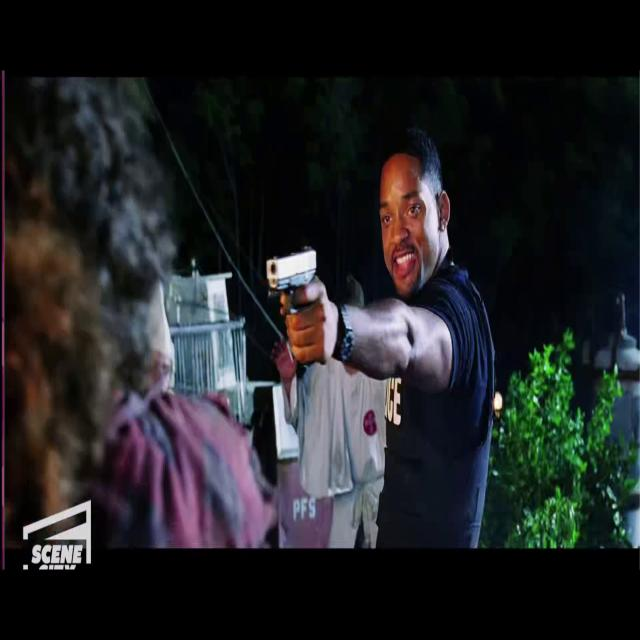weapons: (262, 227, 323, 361)
